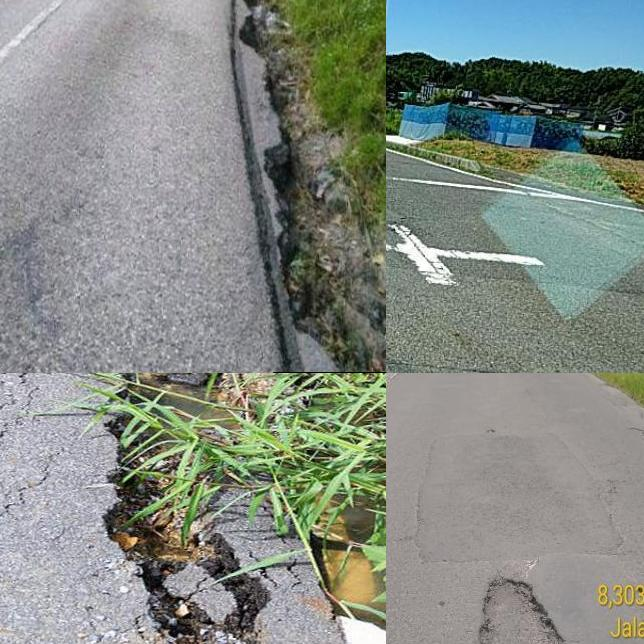Lubang: (478, 578, 562, 644)
Melintang: (386, 349, 615, 373)
Pinggir: (55, 373, 300, 644), (215, 0, 357, 373)
